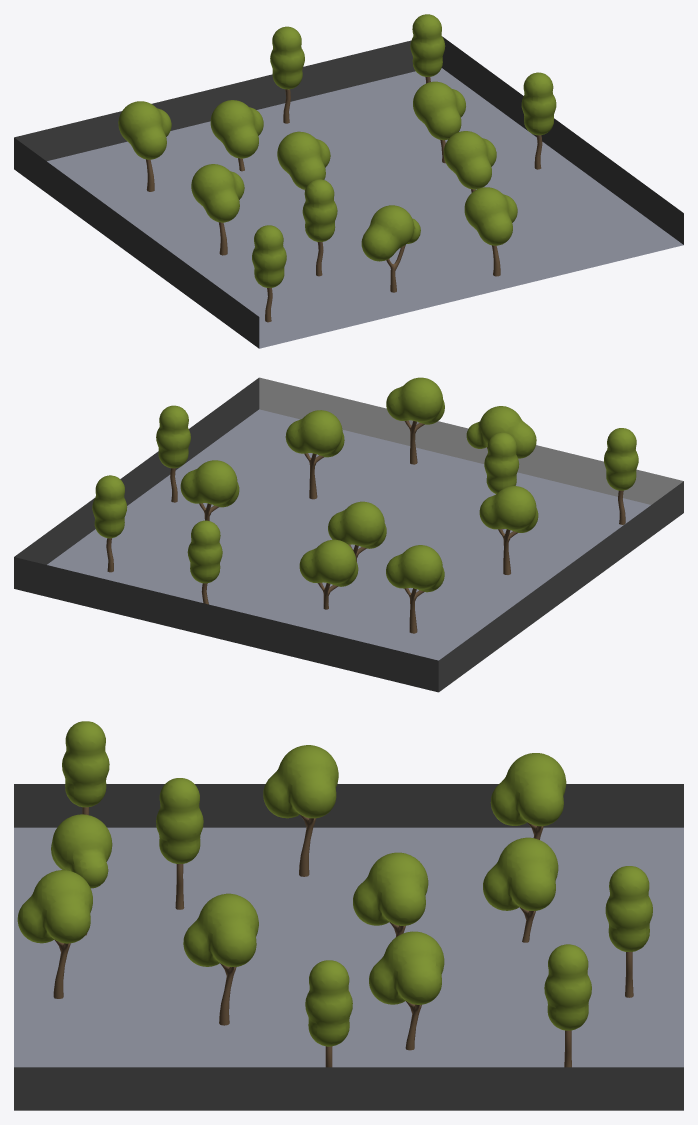
Rendered from map2.glb.
3 views of the same model, one above another, from view 1: azimuth 30°, elevation 25°; view 2: azimuth 150°, elevation 25°; view 3: azimuth 270°, elevation 25° (orthographic). The views are drawn at different scales.
Visible parts, largest first — view 1: Plane, Tree_3, Tree_1, Tree_1.002, Tree_1.004, Tree_1.001, Tree_1.005, Tree_1.007, Tree_1.006, Tree_2.004, Tree_2, Tree_2.003 (+2 smaller); view 2: Plane, Tree_1, Tree_1.007, Tree_1.002, Tree_1.004, Tree_1.001, Tree_1.005, Tree_1.006, Tree_3, Tree_2.001, Tree_2, Tree_2.004 (+2 smaller); view 3: Plane, Tree_1.007, Tree_1, Tree_1.004, Tree_1.005, Tree_1.001, Tree_1.002, Tree_1.006, Tree_2.002, Tree_2.003, Tree_2.001, Tree_2 (+2 smaller).
Part boxes in pixels (left/top/right/bottom): Plane: left=14, top=36, right=683, bottom=348; Tree_3: left=361, top=205, right=420, bottom=292; Tree_1: left=191, top=164, right=244, bottom=255; Tree_1.002: left=118, top=101, right=171, bottom=191; Tree_1.004: left=464, top=187, right=517, bottom=276; Tree_1.001: left=210, top=100, right=263, bottom=171; Tree_1.005: left=413, top=81, right=465, bottom=163; Tree_1.007: left=443, top=131, right=496, bottom=192; Tree_1.006: left=277, top=131, right=330, bottom=190; Tree_2.004: left=252, top=225, right=286, bottom=322; Tree_2: left=521, top=72, right=556, bottom=169; Tree_2.003: left=270, top=26, right=304, bottom=123; Plane: left=14, top=377, right=683, bottom=692; Tree_1: left=479, top=486, right=538, bottom=574; Tree_1.007: left=285, top=410, right=344, bottom=499; Tree_1.002: left=386, top=545, right=444, bottom=633; Tree_1.004: left=386, top=377, right=444, bottom=464; Tree_1.001: left=299, top=539, right=358, bottom=609; Tree_1.005: left=180, top=460, right=239, bottom=520; Tree_1.006: left=328, top=501, right=386, bottom=561; Tree_3: left=466, top=406, right=536, bottom=458; Tree_2.001: left=92, top=475, right=127, bottom=572; Tree_2: left=156, top=405, right=190, bottom=502; Tree_2.004: left=604, top=428, right=638, bottom=524; Plane: left=14, top=784, right=683, bottom=1110; Tree_1.007: left=183, top=893, right=258, bottom=1025; Tree_1: left=263, top=745, right=338, bottom=876; Tree_1.004: left=17, top=870, right=92, bottom=998; Tree_1.005: left=369, top=931, right=444, bottom=1050; Tree_1.001: left=483, top=837, right=558, bottom=942; Tree_1.002: left=490, top=753, right=566, bottom=839; Tree_1.006: left=353, top=852, right=428, bottom=937; Tree_2.002: left=156, top=778, right=203, bottom=909; Tree_2.003: left=605, top=866, right=652, bottom=997; Tree_2.001: left=544, top=944, right=591, bottom=1067; Tree_2: left=305, top=960, right=352, bottom=1067.
Bounding box in the file's own units: 39.88 × 10.31 × 39.88.
